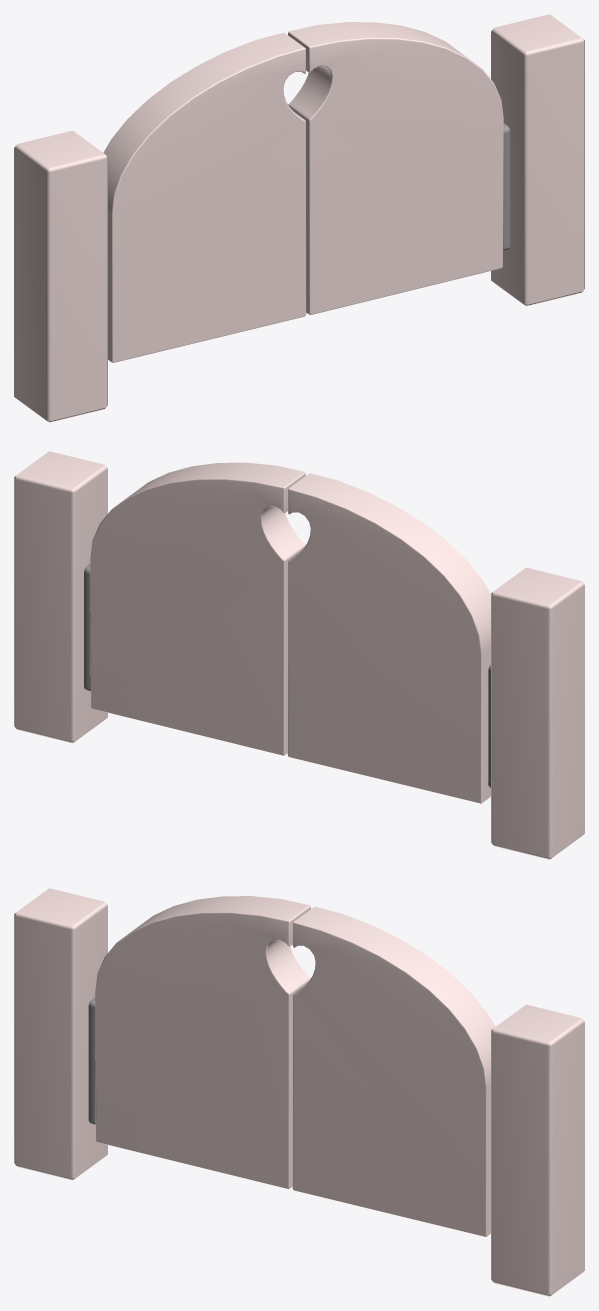
File: Town_17_Gates_1.glb
3 renders of one model, top to bottom at view 1: azimuth 30°, elevation 25°; view 2: azimuth 150°, elevation 25°; view 3: azimuth 330°, elevation 25°, orthographic.
Parts seen in each view (by area): view 1: Town_17_Gates_1; view 2: Town_17_Gates_1; view 3: Town_17_Gates_1.
Boxes of the visible parts, left/top/right/bottom form: Town_17_Gates_1: left=14, top=14, right=584, bottom=422; Town_17_Gates_1: left=14, top=451, right=584, bottom=859; Town_17_Gates_1: left=14, top=888, right=584, bottom=1296.
Bounding box in the file's own units: 2.05 × 1.11 × 0.2358.
Materials: 1 (1 with a texture image).
